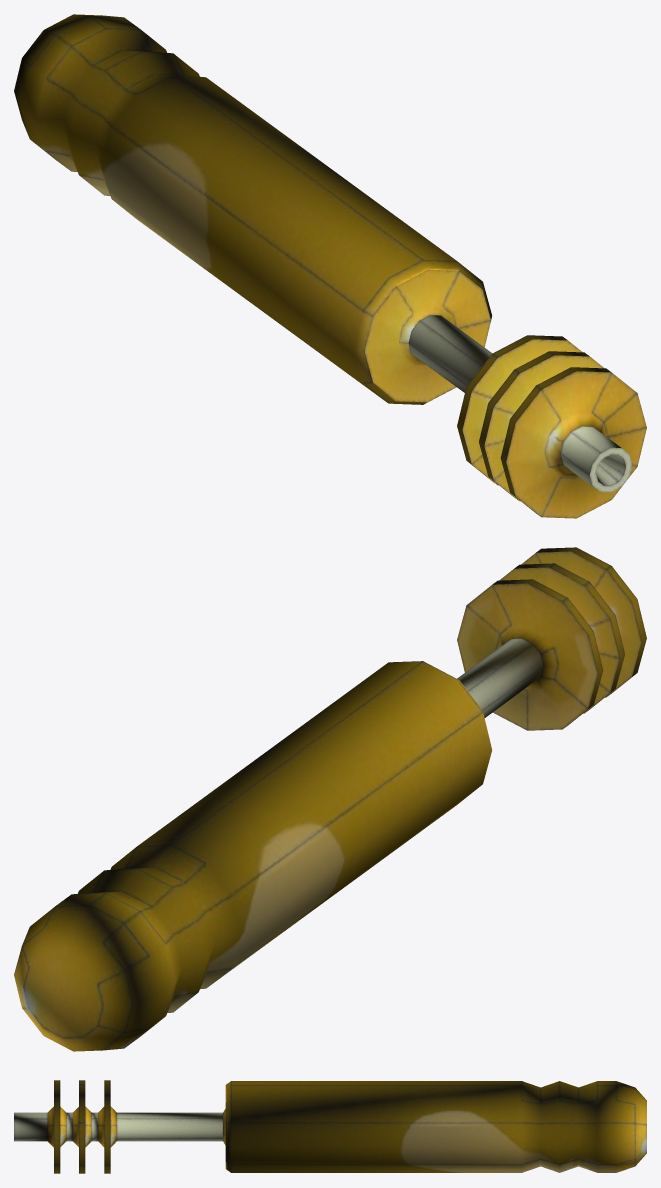
The model's file is autogun_barrel.obj.
3 views of the same model, one above another, from view 1: azimuth 30°, elevation 25°; view 2: azimuth 150°, elevation 25°; view 3: azimuth 270°, elevation 25° (orthographic). The views are drawn at different scales.
Visible parts, largest first — view 1: Object002; view 2: Object002; view 3: Object002.
Boxes of the visible parts, left/top/right/bottom form: Object002: left=14, top=14, right=646, bottom=518; Object002: left=14, top=547, right=646, bottom=1051; Object002: left=14, top=1080, right=646, bottom=1173.
Bounding box in the file's own units: 7.45 × 7.45 × 50.18.
Materials: 1 (1 with a texture image).
